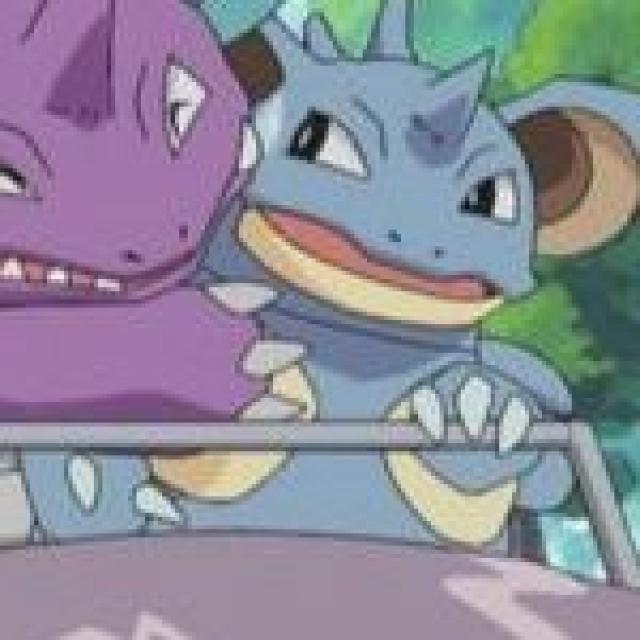Nidoqueen: (230, 0, 640, 548)
